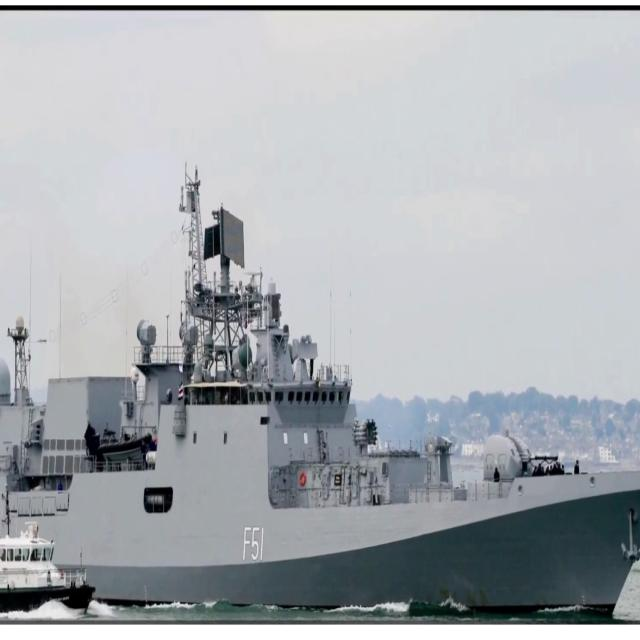OCR: (240, 519, 274, 571)
